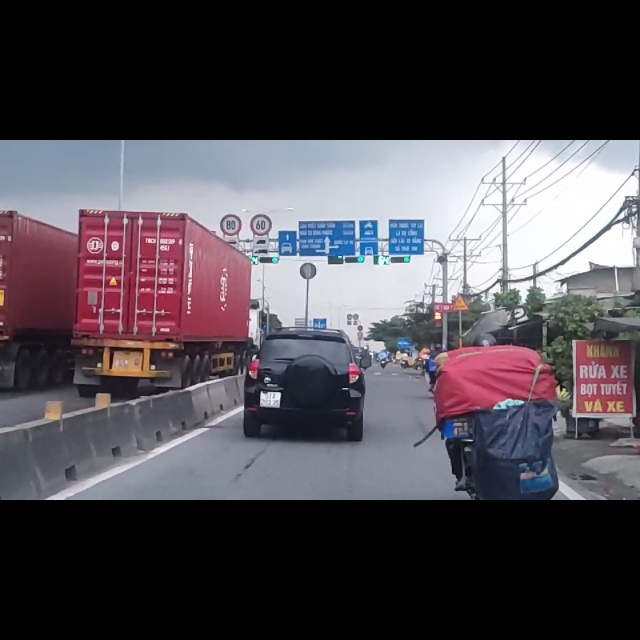bien_cam: (249, 130, 273, 172), (220, 132, 242, 171), (451, 274, 469, 303)
